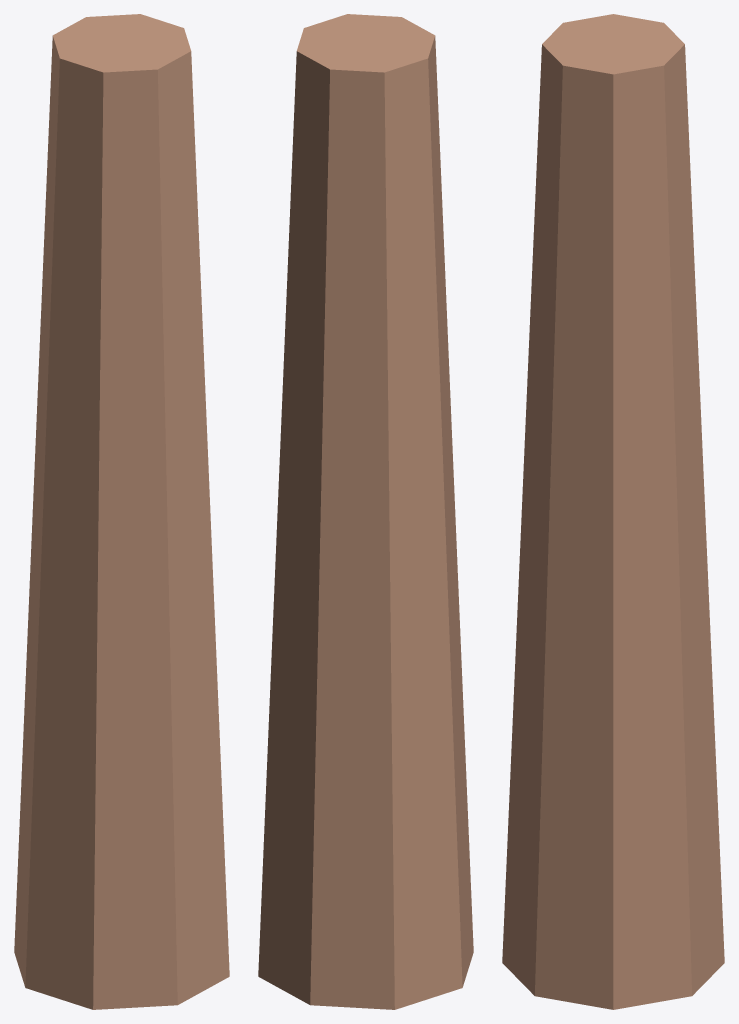
The model's file is wk_buck_standard_thigh_v01.glb.
3 renders of one model, left to right at view 1: azimuth 30°, elevation 25°; view 2: azimuth 150°, elevation 25°; view 3: azimuth 270°, elevation 25°, orthographic.
Visible parts, largest first — view 1: GEO_thigh.001; view 2: GEO_thigh.001; view 3: GEO_thigh.001.
Boxes of the visible parts, box(x1,y1,x2,y2) form: GEO_thigh.001: box(14, 14, 229, 1009); GEO_thigh.001: box(258, 14, 473, 1009); GEO_thigh.001: box(502, 14, 724, 1009).
Size of the model in its own units: 0.2195 by 1 by 0.2195.
